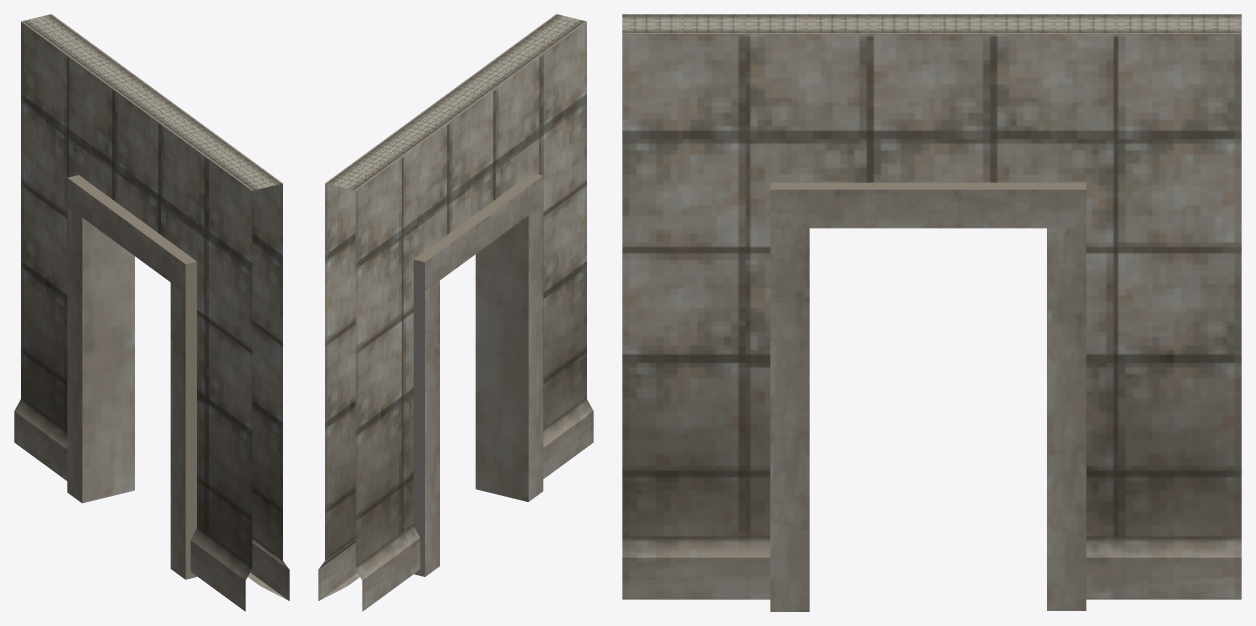
Rendered from tile_wall_doorway.fbx.
The picture shows the model from 3 angles, left to right: view 1: azimuth 30°, elevation 25°; view 2: azimuth 150°, elevation 25°; view 3: azimuth 270°, elevation 25°; orthographic projection. The views are drawn at different scales.
Parts seen in each view (by area): view 1: wall_pice_Straight11; view 2: wall_pice_Straight11; view 3: wall_pice_Straight11.
Part boxes in pixels (<box>): wall_pice_Straight11: <box>14,14,289,611</box>; wall_pice_Straight11: <box>318,14,593,611</box>; wall_pice_Straight11: <box>622,14,1241,611</box>.
Bounding box in the file's own units: 0.132 × 1.02 × 1.
